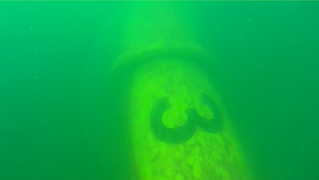3: (149, 91, 225, 145)
pipe: (108, 1, 255, 179)
